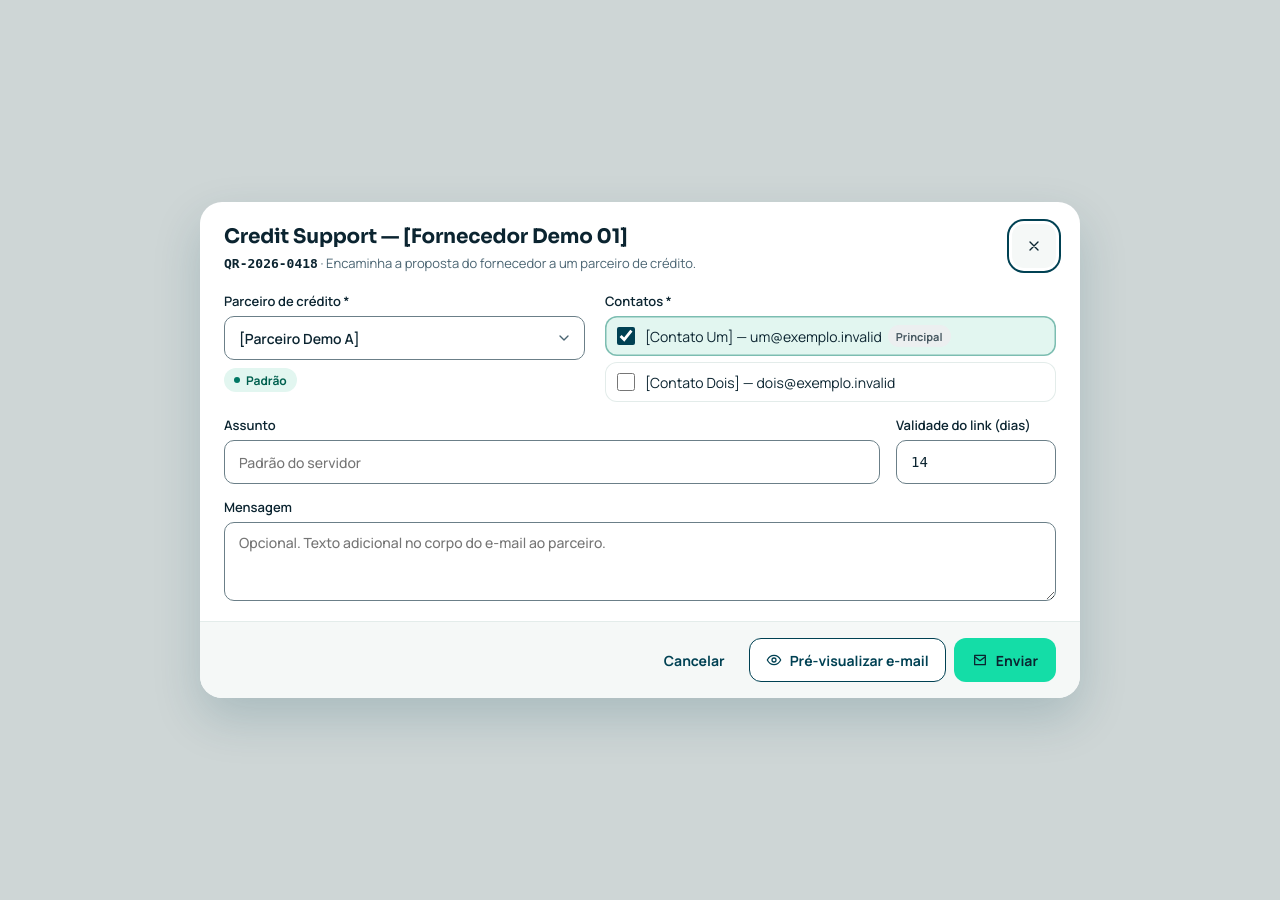
Test case: Credit Support: visual (Suite COMEX, F7) › modal › resultado: alerta em role=status, destinatarios em lista e "Copiar link" com icone; o rodape continua em .modal-actions
Expected: the text "[Contato Um] — um@exemplo.invalid" is shown, [645,325,950,347]
Click the button "Enviar": (1005,660) [954,638,1056,682]
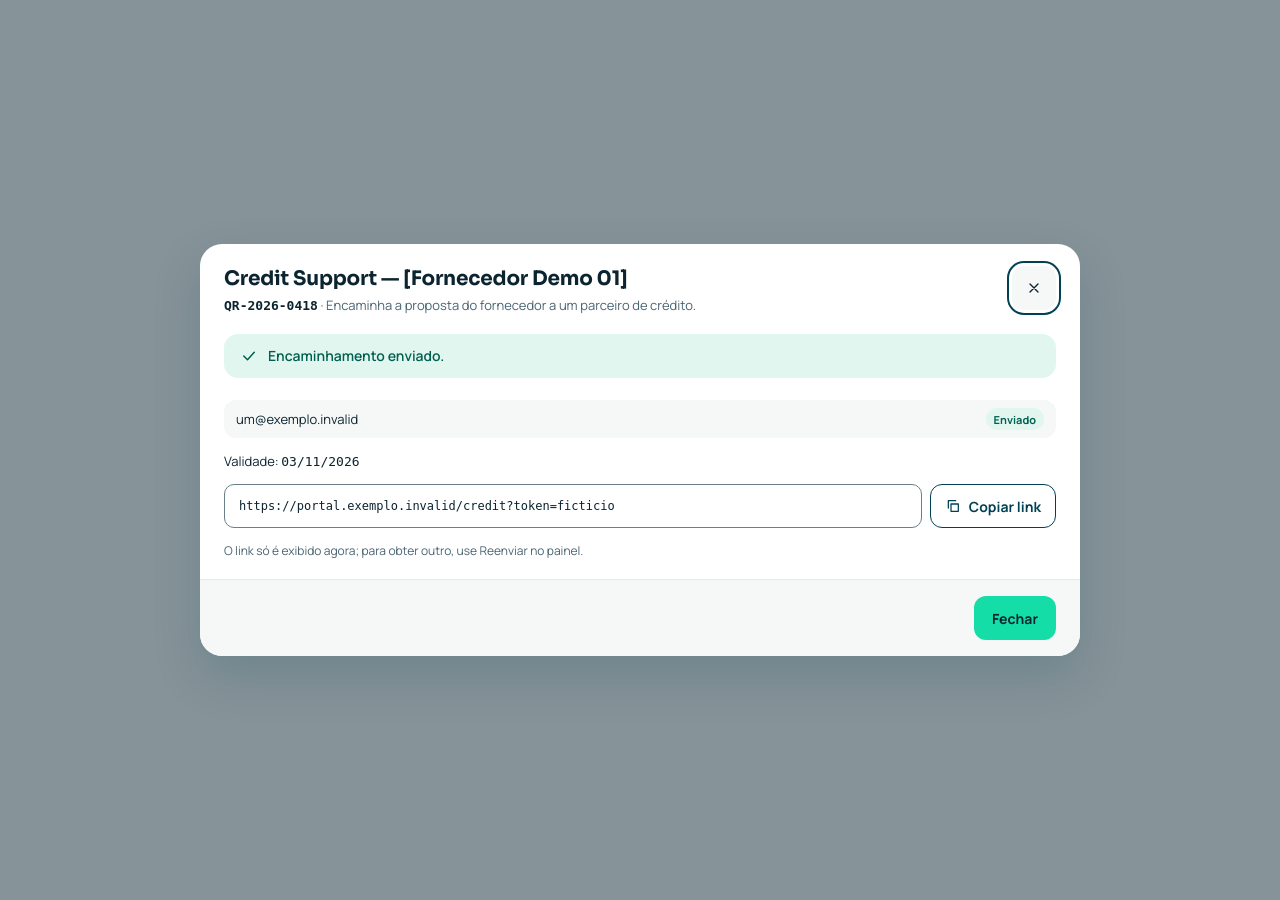
Expected: the 2nd icon is shown, [945,498,961,514]
Expected: the list item "um@exemplo.invalid Enviado" is shown, [224,400,1056,438]
